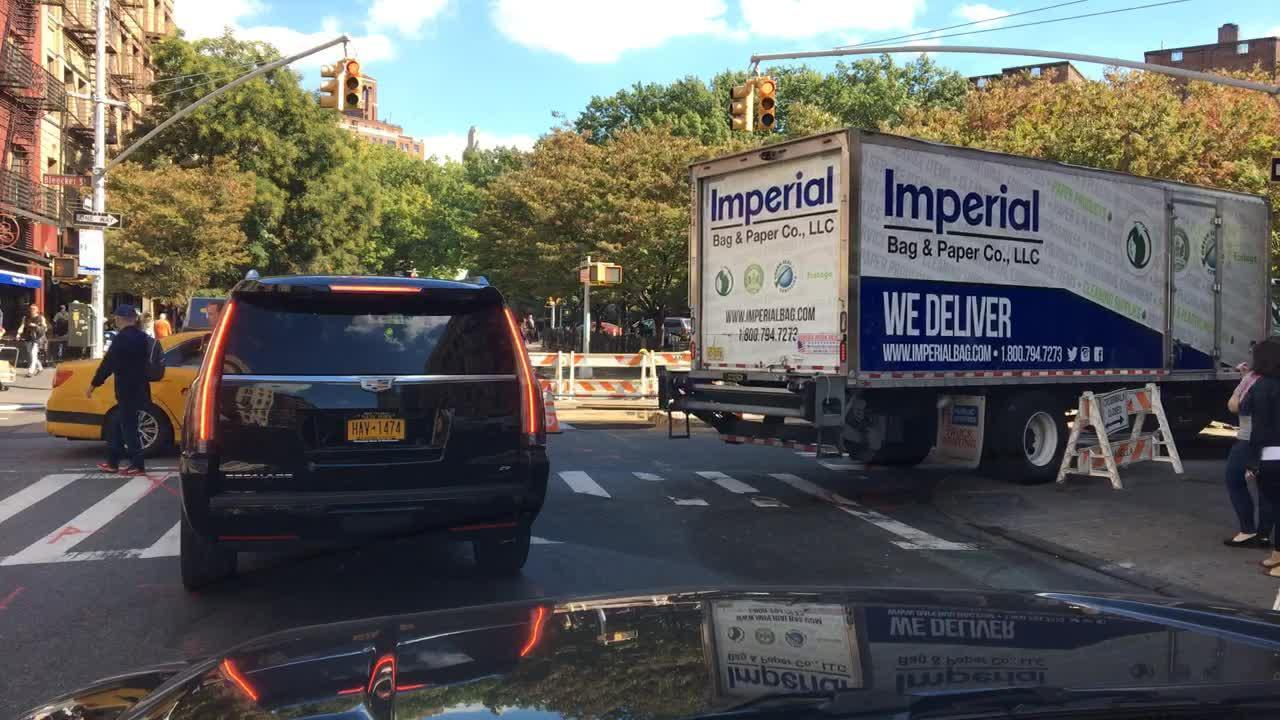cadillac: (351, 372, 403, 397)
